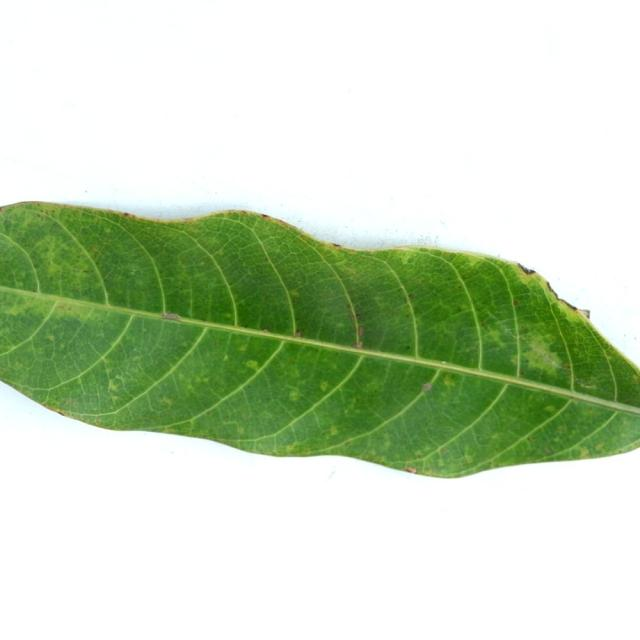Mango: (0, 202, 639, 476)
Powdery_Mildew: (30, 232, 83, 279), (474, 319, 524, 367), (521, 333, 563, 370), (238, 358, 265, 375), (441, 373, 457, 387), (107, 379, 122, 392), (193, 374, 209, 386), (344, 398, 358, 411), (284, 443, 300, 453), (288, 389, 301, 401), (159, 397, 173, 406), (319, 381, 329, 392), (579, 447, 589, 458), (329, 426, 339, 436), (464, 453, 474, 463), (594, 442, 605, 451), (238, 343, 248, 352), (289, 290, 300, 298), (543, 405, 555, 412), (236, 425, 245, 434), (224, 312, 234, 320), (132, 355, 142, 362), (46, 334, 55, 341), (106, 382, 113, 391), (222, 354, 229, 362)
